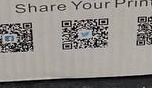2d: (61, 18, 109, 51)
